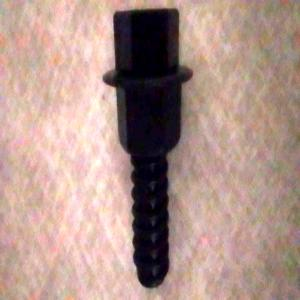parafuso: (102, 9, 194, 285)
